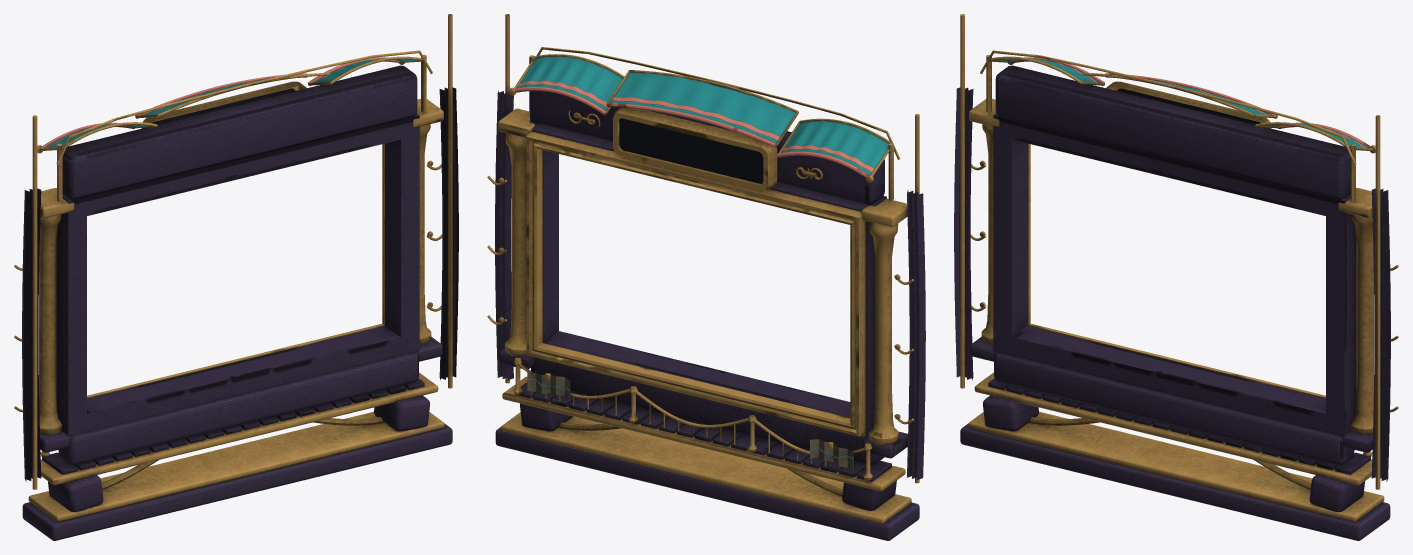
The picture shows the model from 3 angles, left to right: view 1: azimuth 30°, elevation 25°; view 2: azimuth 150°, elevation 25°; view 3: azimuth 330°, elevation 25°; orthographic projection.
Visible parts, largest first — view 1: Violet_ravine, Survey_brass, Coral_woven_binding, Teal_woven_canopy, Uniform_dark_display; view 2: Survey_brass, Violet_ravine, Teal_woven_canopy, Uniform_dark_display, Coral_woven_binding, Folded_ivory_paper; view 3: Violet_ravine, Survey_brass, Coral_woven_binding, Teal_woven_canopy, Uniform_dark_display.
Boxes of the visible parts, x1=… form: Violet_ravine: x1=22, y1=65, x2=458, y2=540; Survey_brass: x1=14, y1=14, x2=452, y2=521; Coral_woven_binding: x1=40, y1=57, x2=403, y2=151; Teal_woven_canopy: x1=44, y1=58, x2=417, y2=148; Uniform_dark_display: x1=152, y1=88, x2=295, y2=124; Survey_brass: x1=487, y1=14, x2=919, y2=523; Violet_ravine: x1=495, y1=90, x2=925, y2=540; Teal_woven_canopy: x1=516, y1=56, x2=888, y2=458; Uniform_dark_display: x1=619, y1=118, x2=763, y2=183; Coral_woven_binding: x1=515, y1=80, x2=874, y2=457; Folded_ivory_paper: x1=527, y1=372, x2=852, y2=469; Violet_ravine: x1=954, y1=65, x2=1390, y2=540; Survey_brass: x1=960, y1=14, x2=1398, y2=521; Coral_woven_binding: x1=1009, y1=57, x2=1372, y2=151; Teal_woven_canopy: x1=997, y1=58, x2=1368, y2=148; Uniform_dark_display: x1=1117, y1=88, x2=1260, y2=124.
Bounding box in the file's own units: 9.54 × 8.8 × 1.34.
6 materials, 6 textured.
